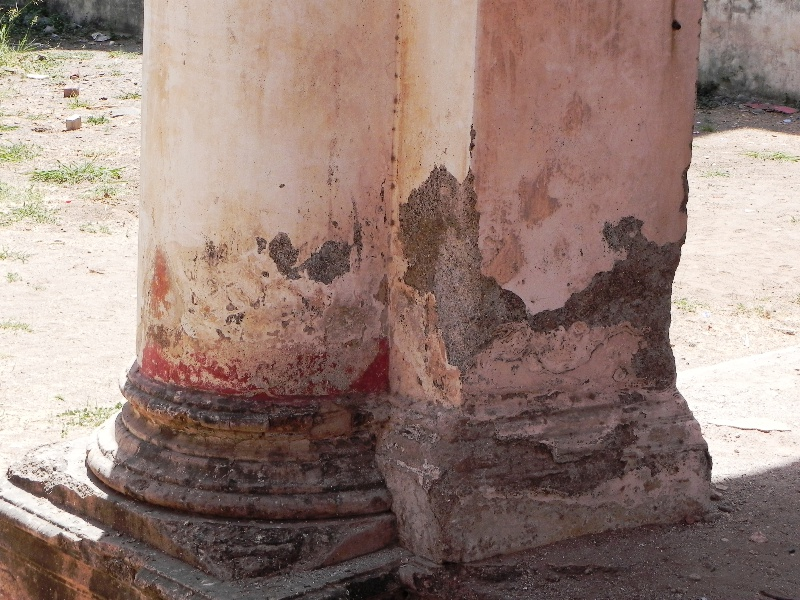Spalling: (530, 205, 689, 400), (395, 160, 524, 372), (250, 224, 361, 294)
